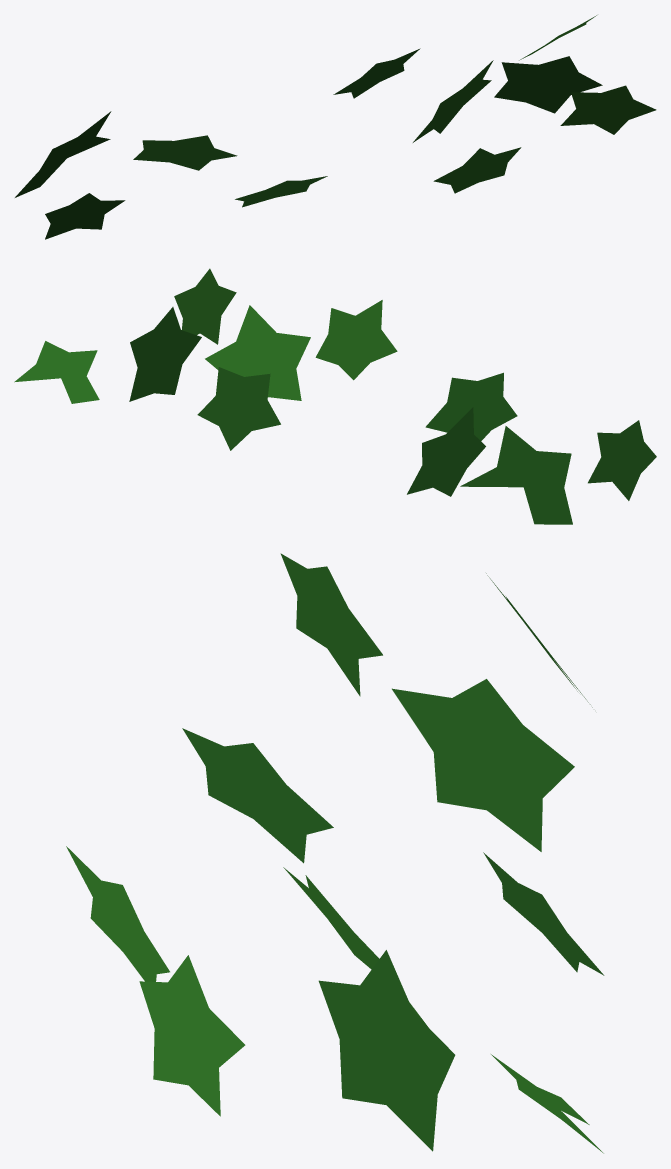
The picture shows the model from 3 angles, top to bottom: view 1: azimuth 30°, elevation 25°; view 2: azimuth 150°, elevation 25°; view 3: azimuth 270°, elevation 25°; orthographic projection. The views are drawn at different scales.
Parts seen in each view (by area): view 1: r27c1_l11; view 2: r27c1_l11; view 3: r27c1_l11.
Part boxes in pixels (x1,y1,x2,y2): r27c1_l11: (15,15,656,239); r27c1_l11: (14,268,656,524); r27c1_l11: (66,553,604,1153).
Size of the model in its own units: 2.28 by 0.3621 by 0.9284.
